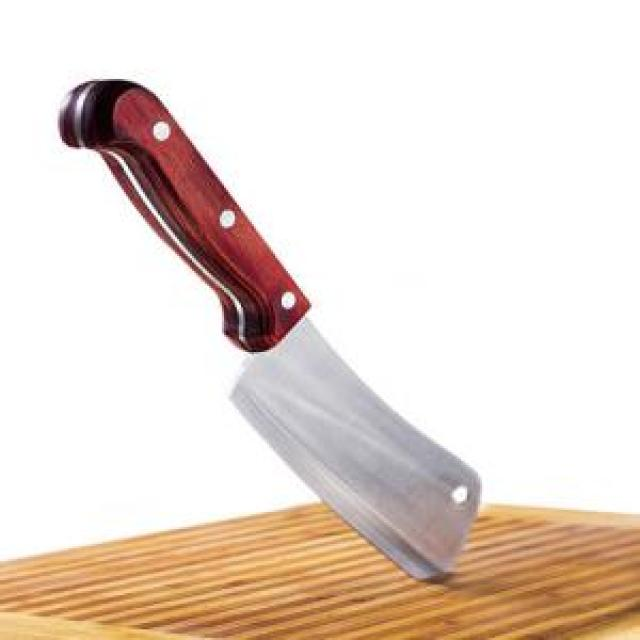knife: (62, 49, 493, 590)
